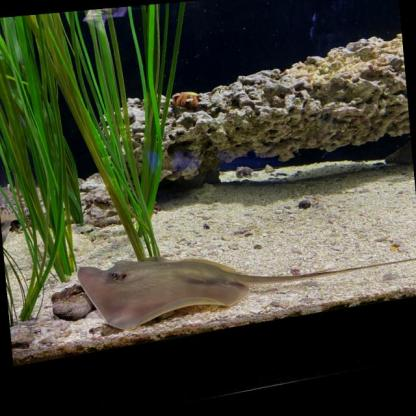stingray: (76, 250, 252, 335)
